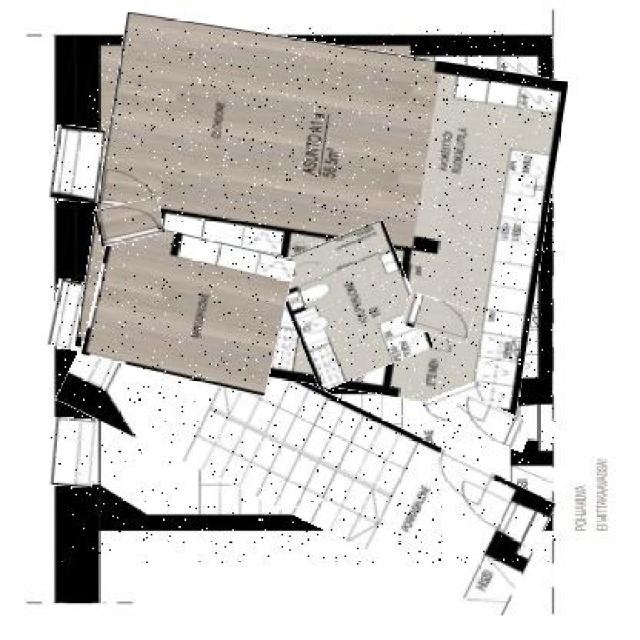door: (451, 400, 532, 445), (95, 200, 163, 243), (403, 298, 472, 338), (426, 385, 488, 426)
window: (51, 126, 103, 203), (51, 280, 100, 351), (48, 419, 97, 486)
zone: (88, 28, 555, 400), (56, 338, 556, 564), (89, 228, 289, 386), (280, 228, 423, 383)
